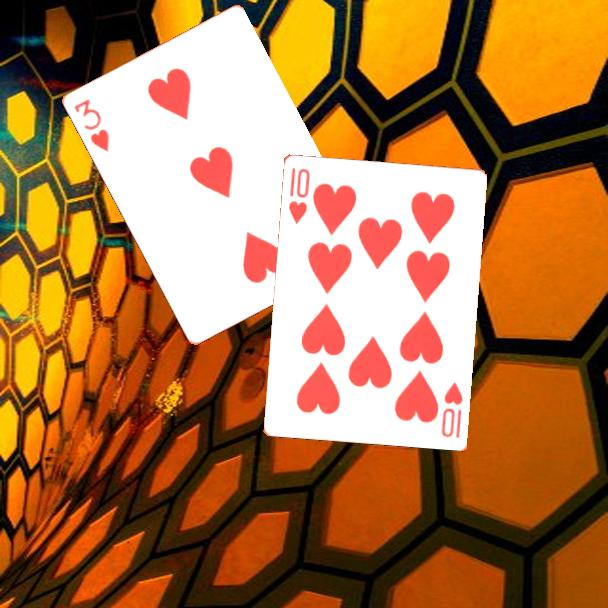h03: (70, 95, 112, 155)
h10: (285, 164, 313, 227), (438, 379, 465, 440)
